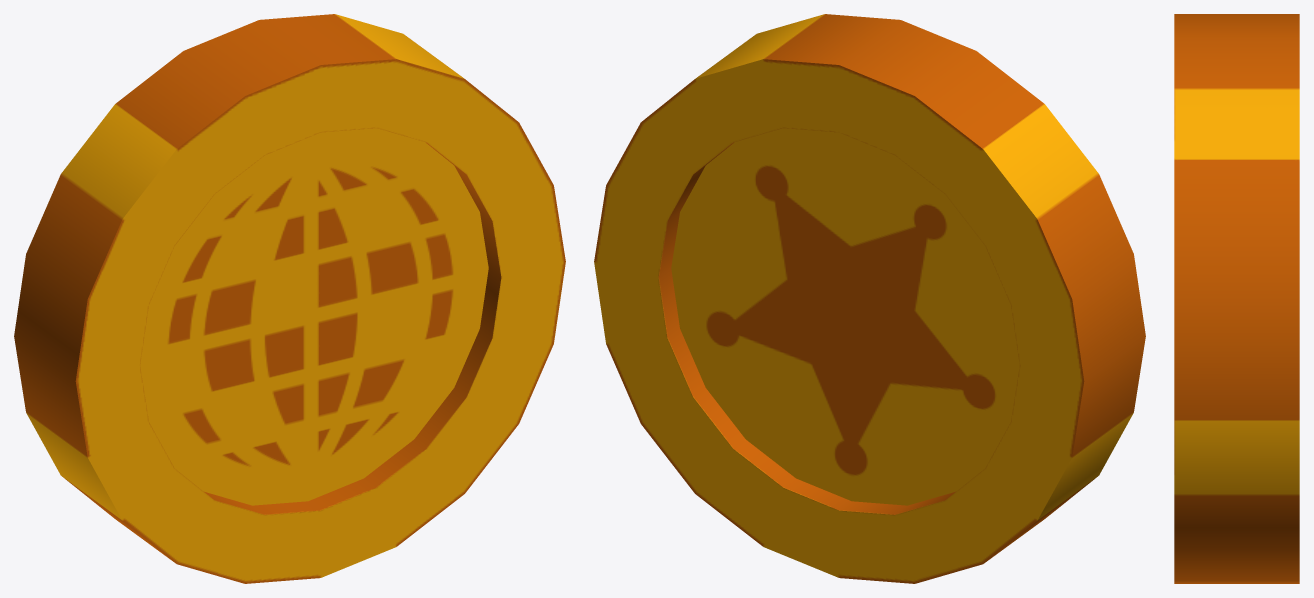
Rendered from coin.fbx.
3 views of the same model, side by side, from view 1: azimuth 30°, elevation 25°; view 2: azimuth 150°, elevation 25°; view 3: azimuth 270°, elevation 25° (orthographic).
Visible parts, largest first — view 1: pCylinder1; view 2: pCylinder1; view 3: pCylinder1.
Part boxes in pixels (x1=…): pCylinder1: x1=14, y1=14, x2=565, y2=583; pCylinder1: x1=594, y1=14, x2=1145, y2=583; pCylinder1: x1=1174, y1=14, x2=1299, y2=583.
Bounding box in the file's own units: 2 × 2 × 0.4356.
